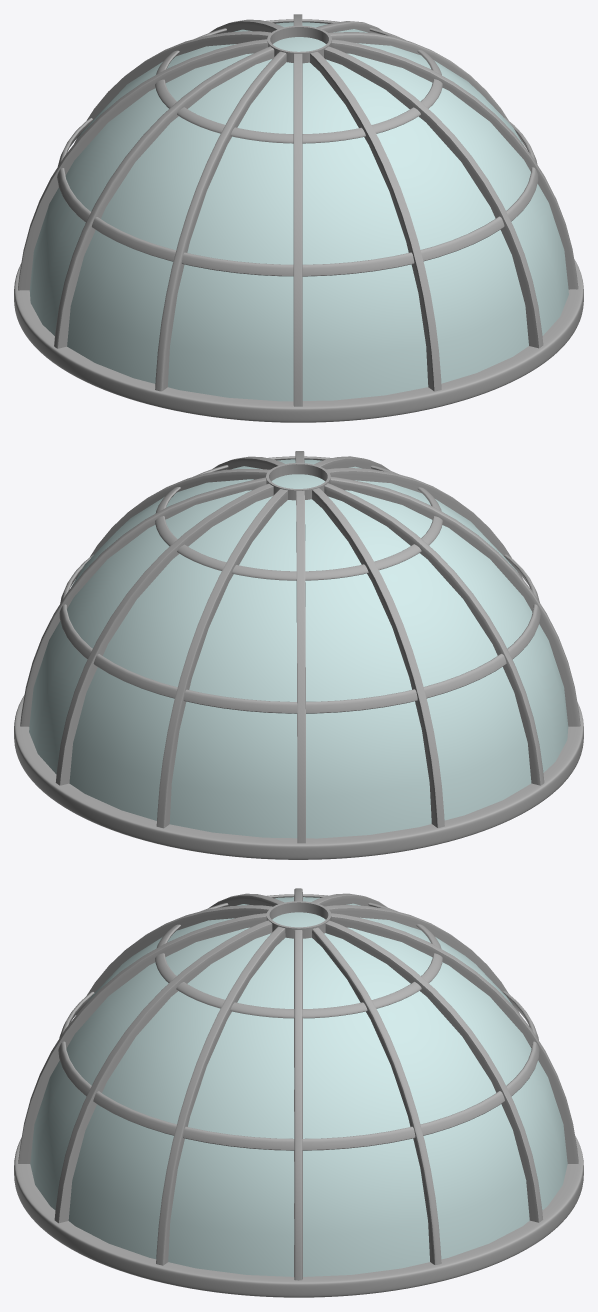
File: glass_dome.glb
3 views of the same model, one above another, from view 1: azimuth 30°, elevation 25°; view 2: azimuth 150°, elevation 25°; view 3: azimuth 270°, elevation 25° (orthographic).
Parts seen in each view (by area): view 1: dome glass, dome metal; view 2: dome glass, dome metal; view 3: dome glass, dome metal.
Boxes of the visible parts, <box> form: dome glass: <box>29,22,568,401</box>; dome metal: <box>14,14,583,422</box>; dome glass: <box>29,459,568,838</box>; dome metal: <box>14,451,583,859</box>; dome glass: <box>30,897,567,1276</box>; dome metal: <box>14,888,583,1297</box>.
Bounding box in the file's own units: 17.5 × 8.94 × 17.5.
